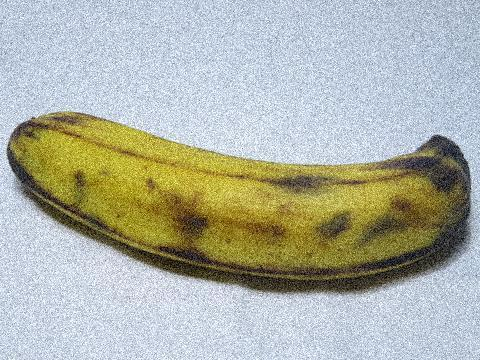overripe: (0, 88, 479, 288)
